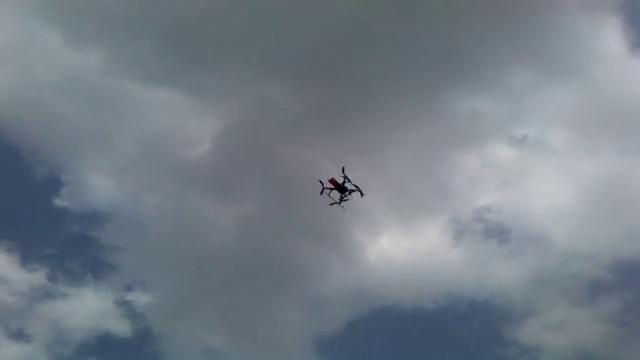drone: (315, 164, 363, 209)
